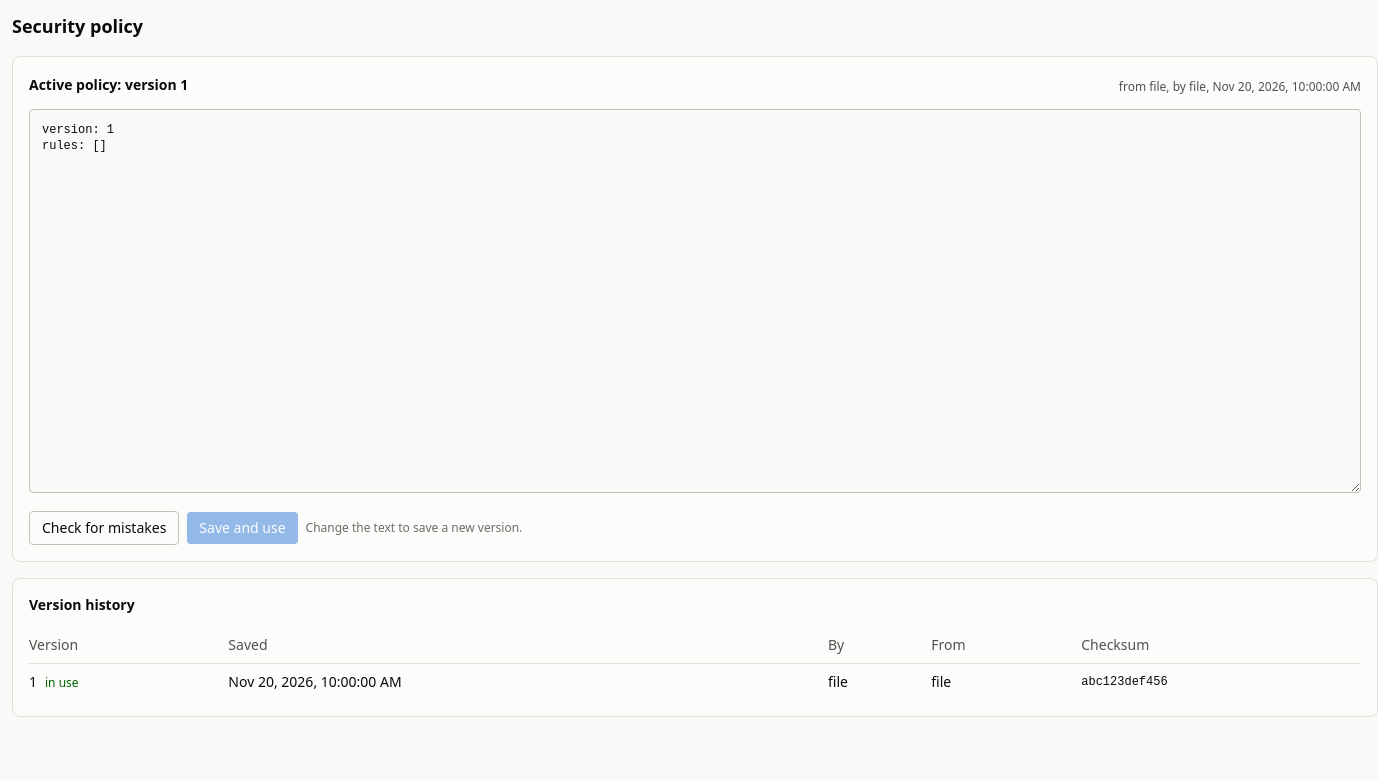
policy › shows why a save was refused
Type "x" into the text box named "Policy (YAML)".
click(695, 301); type("x")  # box [29, 109, 1361, 493]
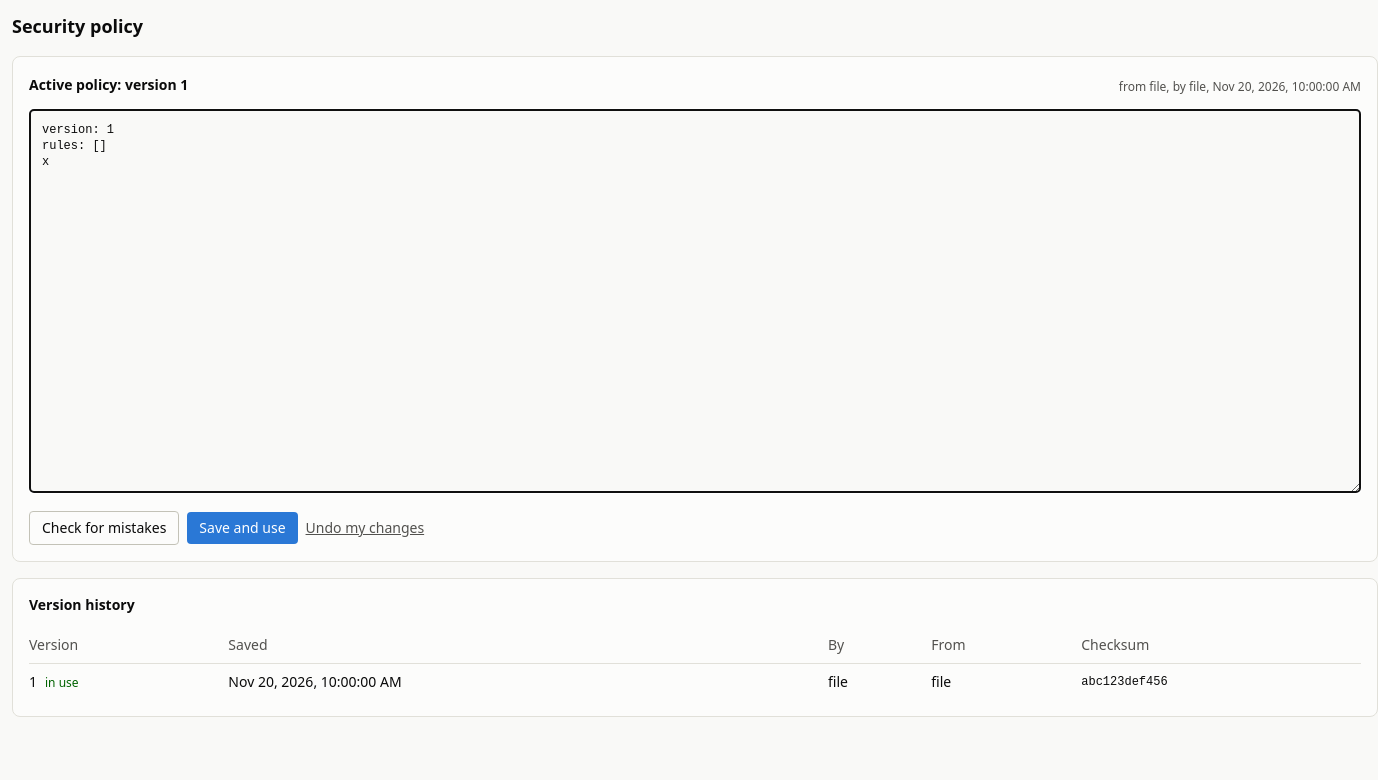
Click the button "Save and use".
click(242, 528)  # box [187, 512, 298, 544]
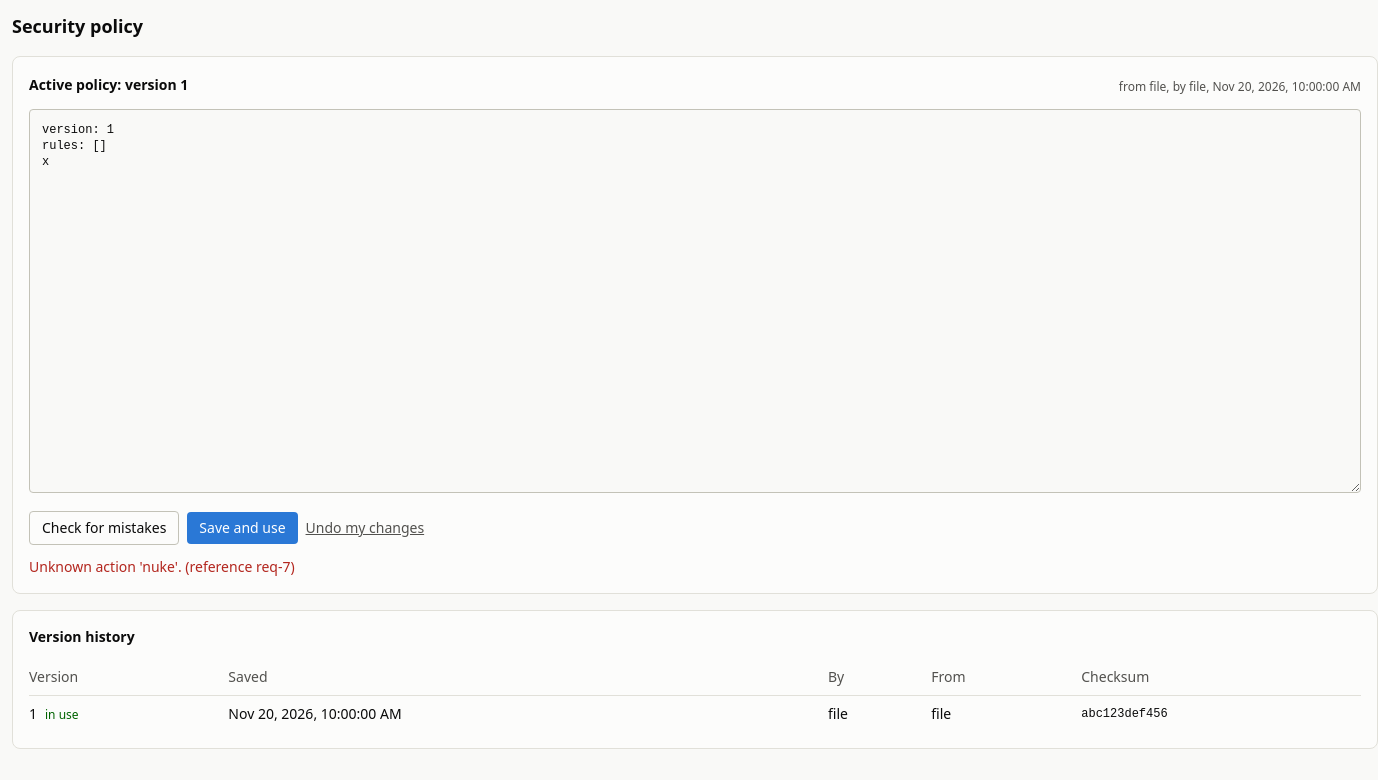
Result: the message reads "Unknown action 'nuke'. (reference req-7)" at [29, 557, 295, 576]
